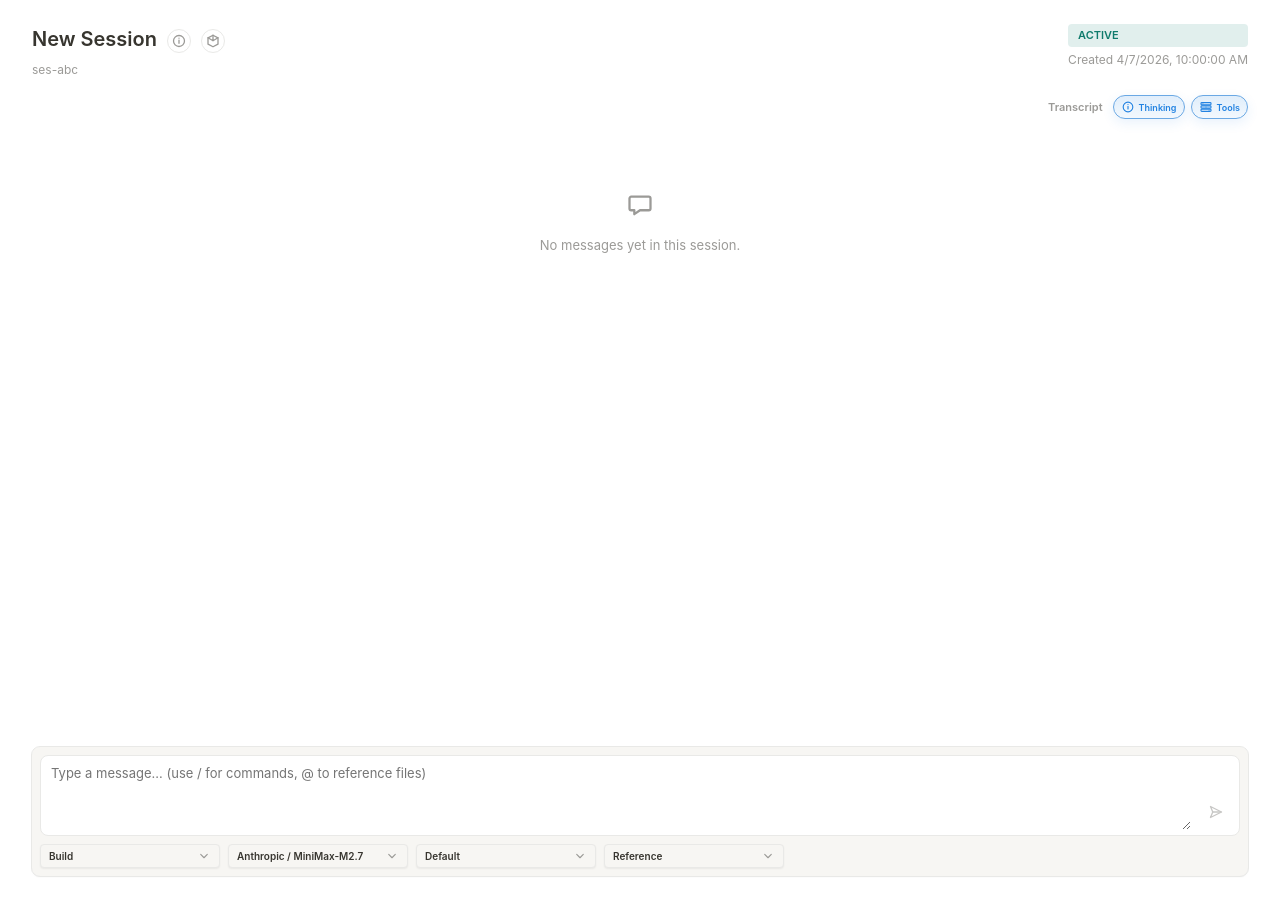
Test: ChatPage › shows composer stop button while run is active
Step 1. Type "do something" into the text box with test id "message-input" → (616, 793), box x1=41 y1=756 x2=1191 y2=830
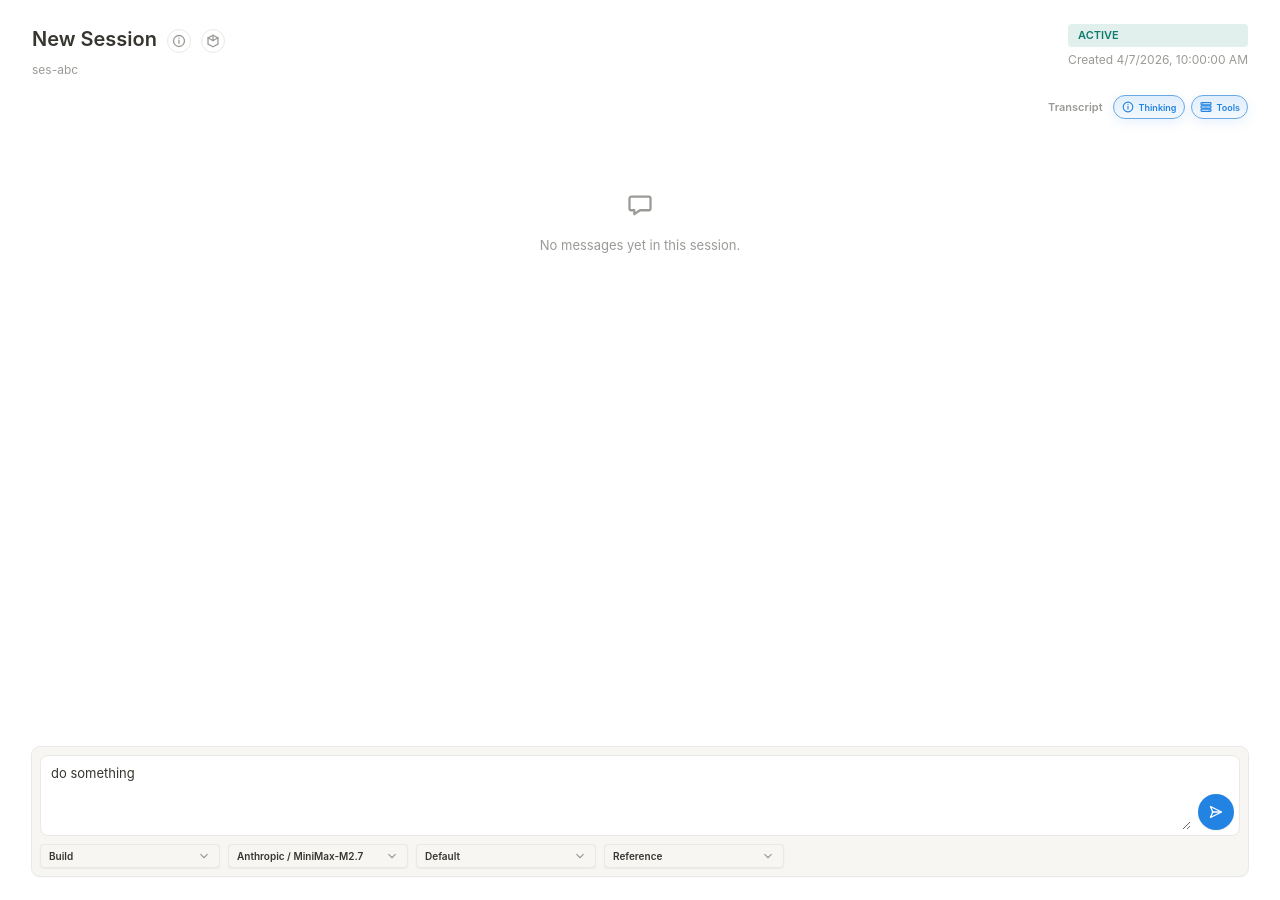
Step 2. Submit the form with test id "composer", box x1=32 y1=746 x2=1248 y2=876
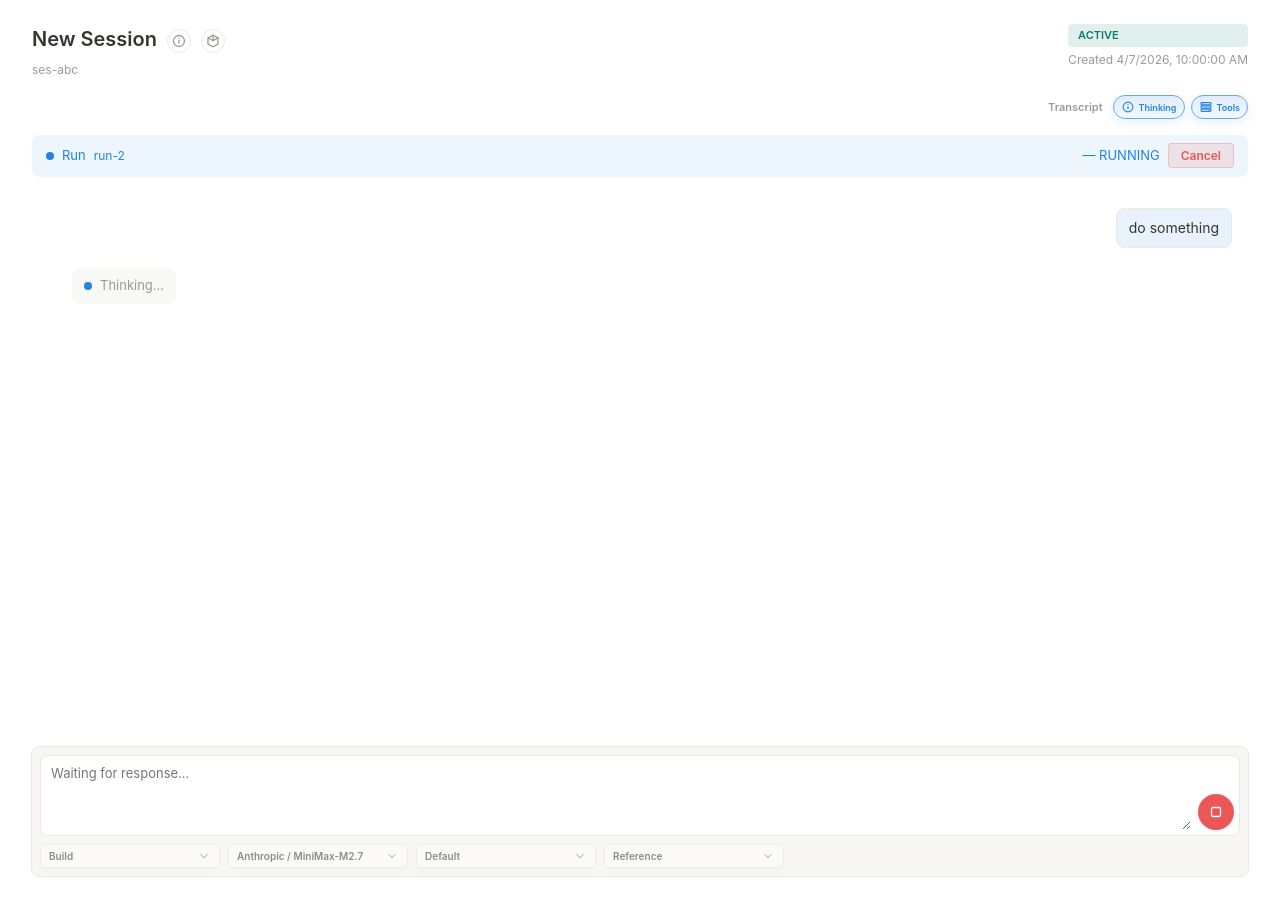
Now the button with test id "cancel-btn" is shown, box x1=1168 y1=143 x2=1234 y2=168
